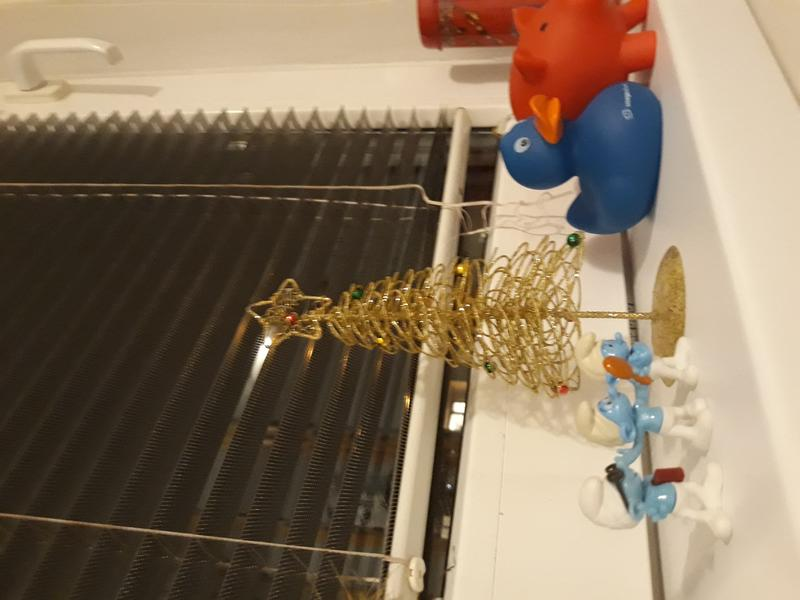foi_gujdica: (478, 1, 670, 118)
plava_patkica: (476, 79, 672, 233)
strumf: (558, 462, 736, 548), (563, 396, 714, 452), (568, 336, 703, 390)
